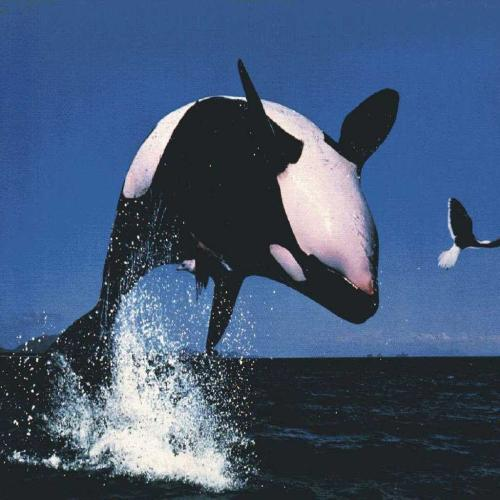killer_whale-endangered: (64, 45, 402, 333)
